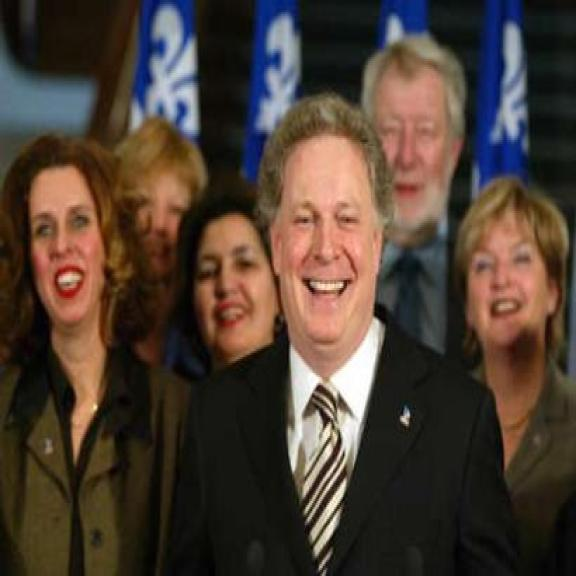face: (267, 137, 390, 349), (23, 160, 117, 324), (374, 62, 466, 227), (194, 219, 277, 362), (461, 232, 563, 348), (119, 149, 197, 277)
